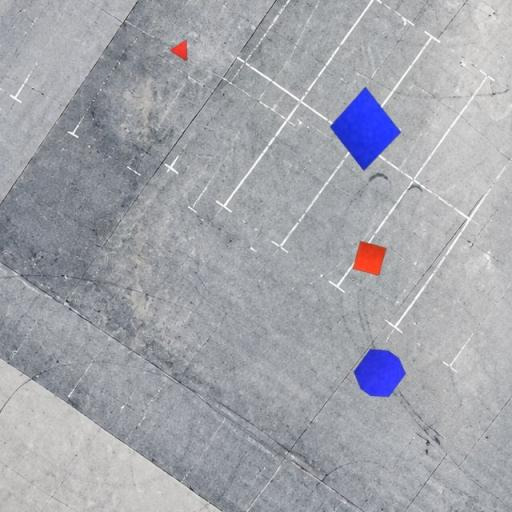BLUE_SQUARE: (328, 86, 402, 172)
RED_SQUARE: (353, 241, 387, 277)
